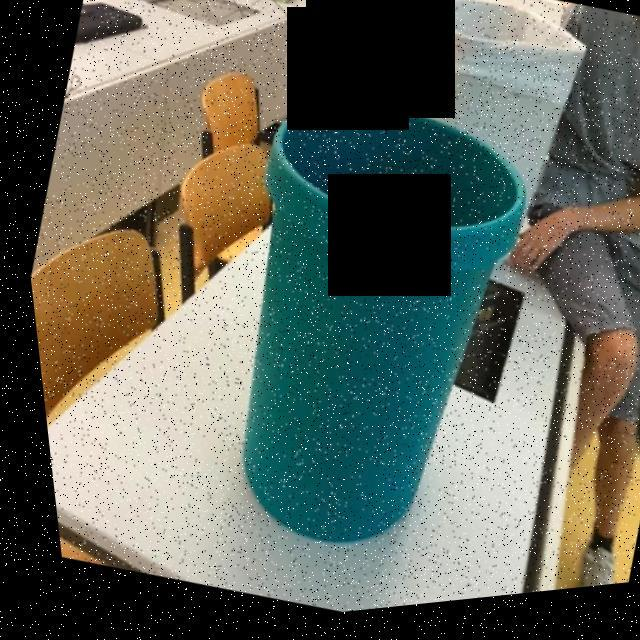bin: (110, 55, 588, 624)
